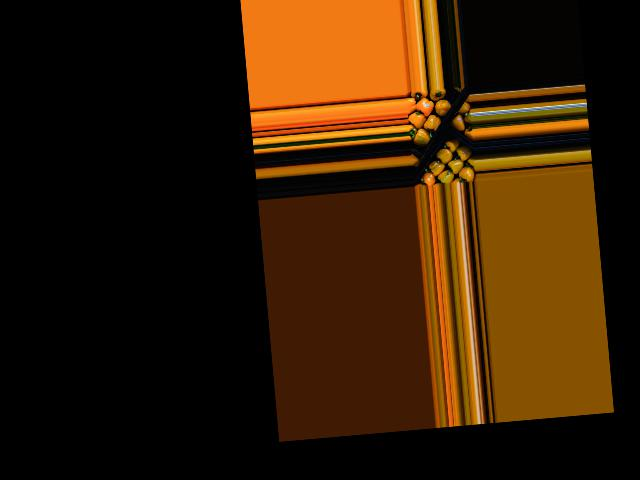bell_pepper: (459, 162, 477, 182)
